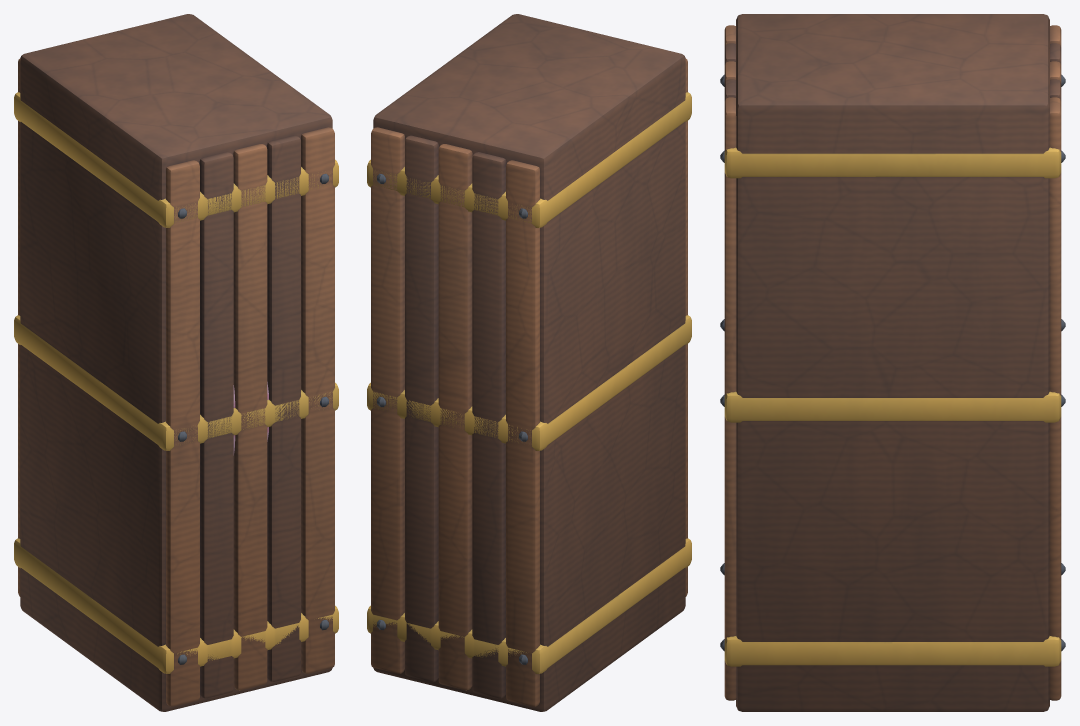
Rendered from CC_G04_TideGate.fbx.
3 renders of one model, left to right at view 1: azimuth 30°, elevation 25°; view 2: azimuth 150°, elevation 25°; view 3: azimuth 270°, elevation 25°, orthographic. The views are drawn at different scales.
Parts seen in each view (by area): view 1: Slab; view 2: Slab; view 3: Slab.
Boxes of the visible parts, left/top/right/bottom form: Slab: left=14, top=14, right=338, bottom=711; Slab: left=367, top=14, right=691, bottom=711; Slab: left=720, top=14, right=1065, bottom=711.
Size of the model in its own units: 0.99 by 3 by 1.54.
